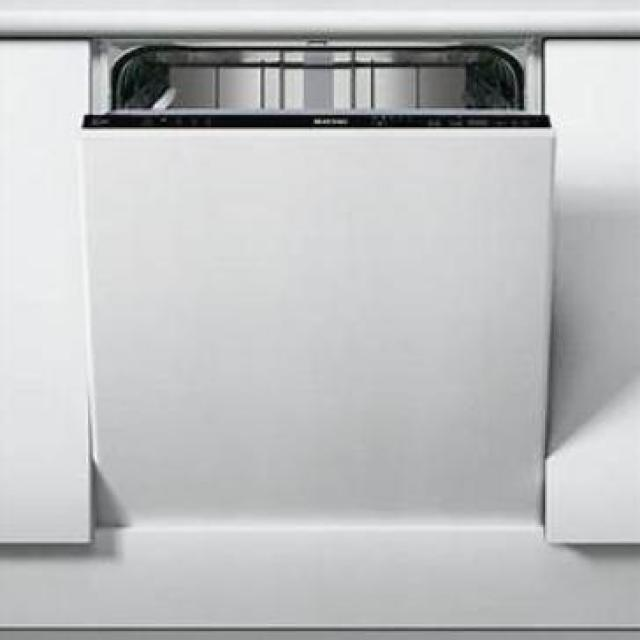dishwasher: (78, 32, 550, 543)
